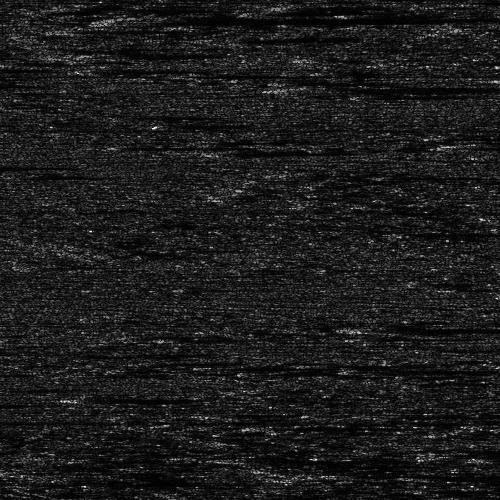rock: (203, 80, 390, 95), (92, 11, 165, 26), (243, 0, 296, 12), (200, 407, 253, 418), (32, 25, 95, 34), (200, 147, 263, 152), (59, 50, 112, 55), (54, 395, 107, 400), (238, 424, 291, 429), (484, 453, 500, 460), (157, 122, 188, 125), (92, 67, 123, 70), (189, 37, 220, 40), (347, 325, 378, 328), (118, 141, 129, 148)
shadow: (129, 11, 429, 26), (297, 80, 467, 95), (270, 0, 465, 12), (64, 25, 248, 34), (124, 141, 322, 148), (227, 407, 306, 418), (265, 424, 426, 429), (86, 50, 237, 55), (232, 147, 357, 152), (0, 161, 80, 168), (81, 395, 193, 400), (363, 325, 500, 328), (205, 37, 322, 40), (173, 122, 254, 125), (0, 66, 79, 69), (108, 67, 184, 70)
